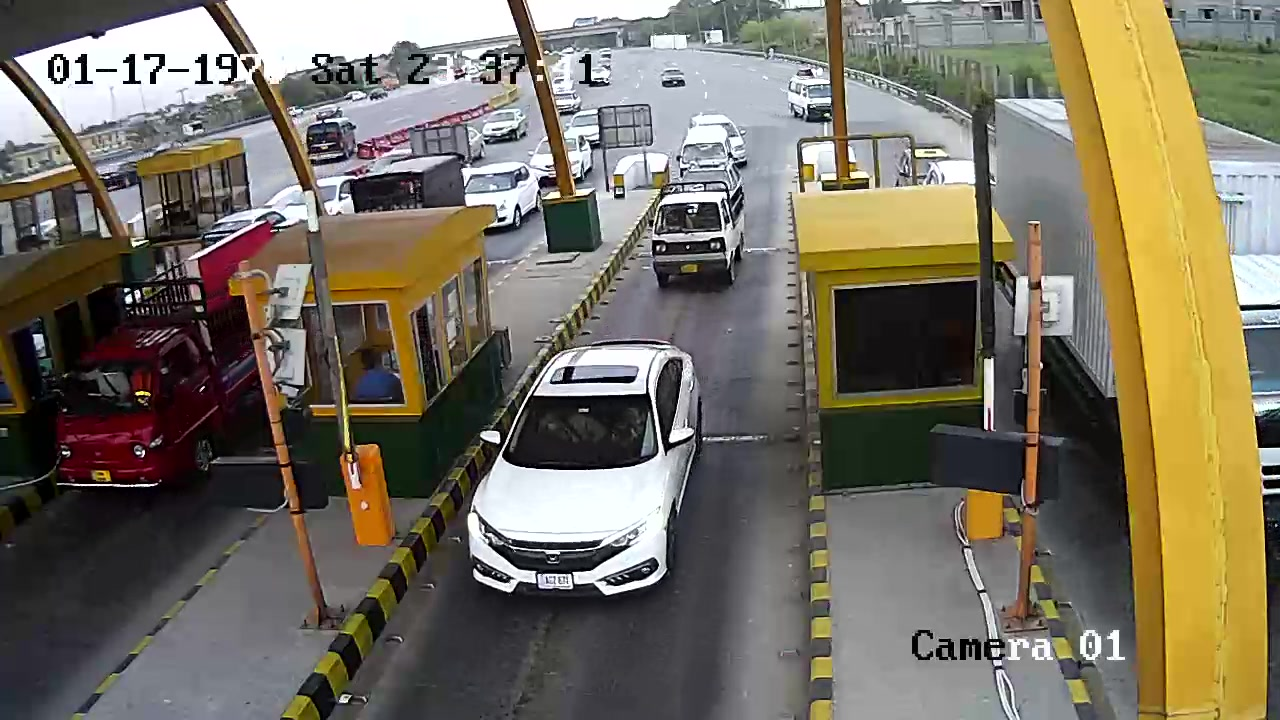F1: (456, 329, 741, 613), (644, 154, 750, 301)
